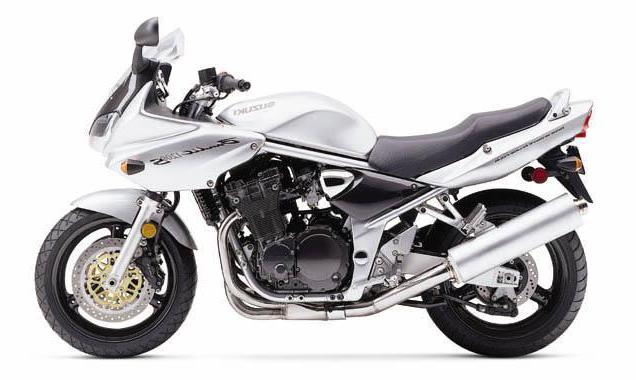motorcycle: (8, 10, 625, 367)
